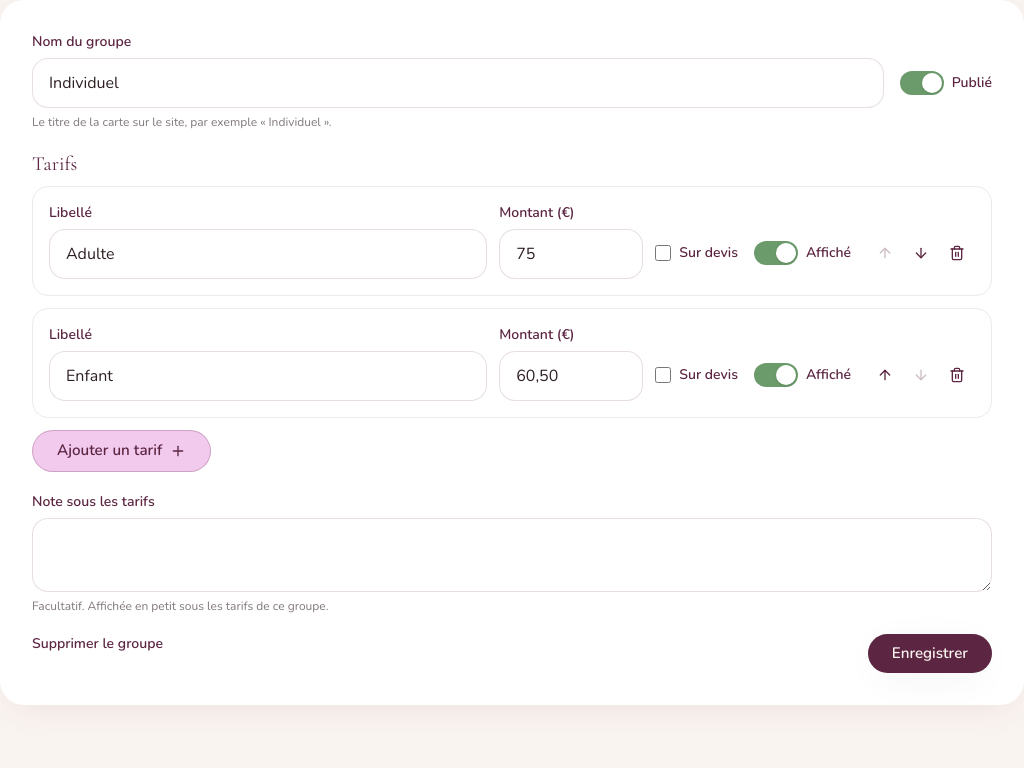
Test: PricingGroupForm › confirms on its own card once the public site is refreshed
Type " (1h)" into the 1st field labelled "Libellé" at (268, 254), box [49,229,487,279]
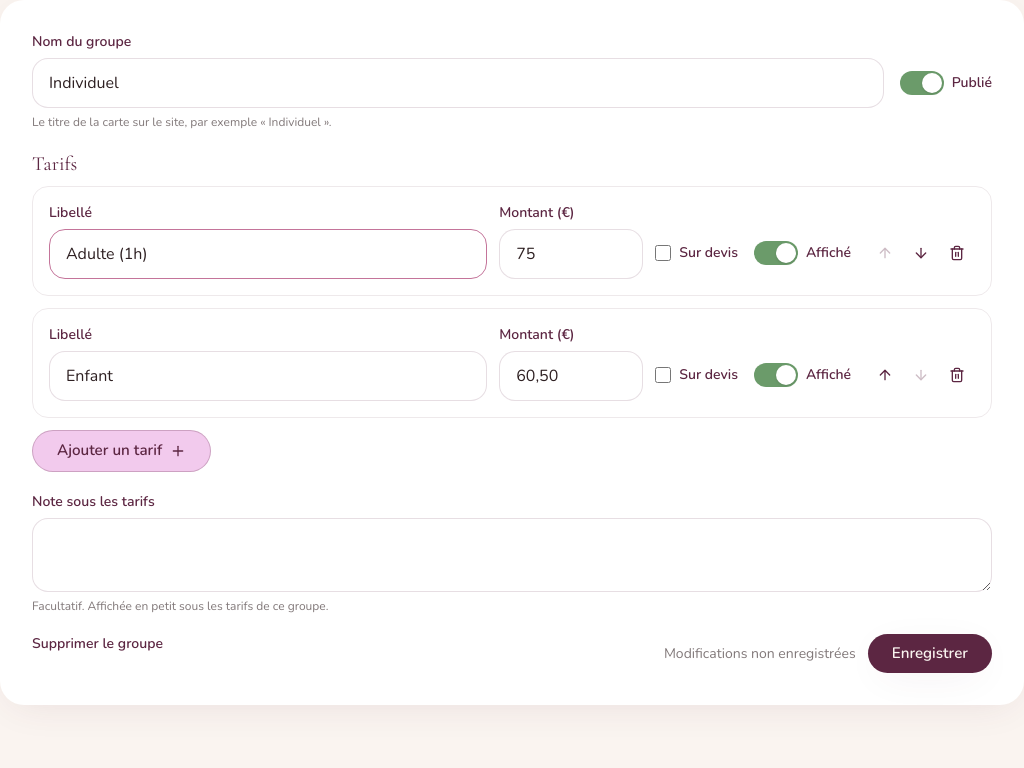
Click the button "Enregistrer" at (930, 654), box [868,634,992,673]
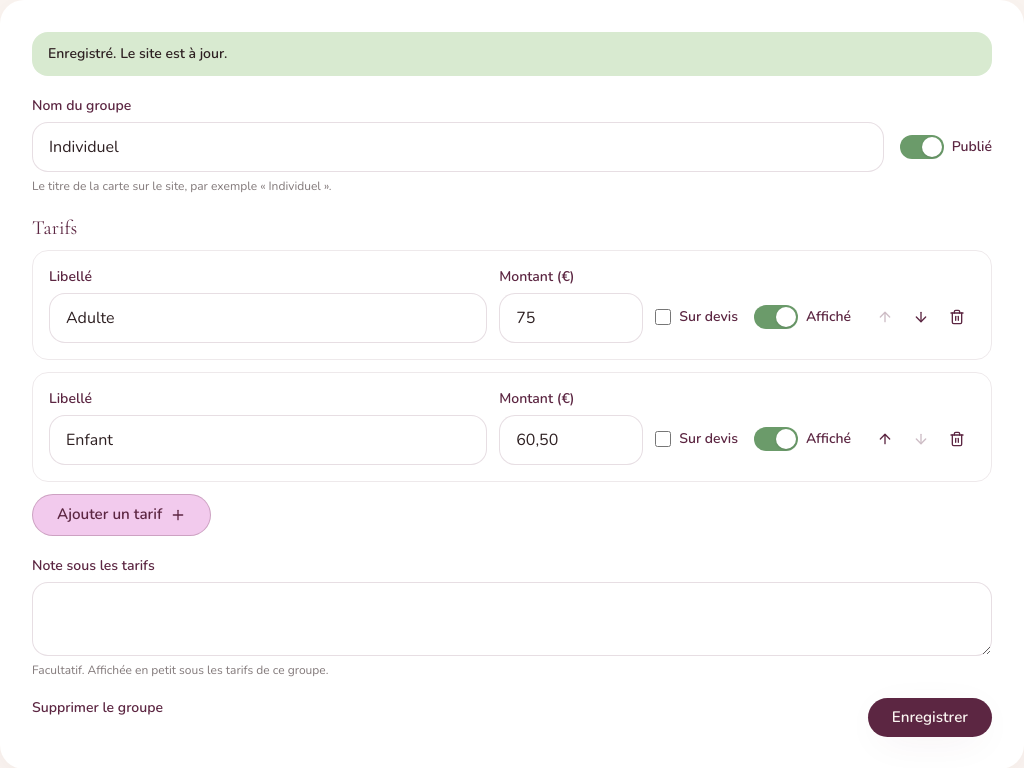
Expected: the text "Enregistré. Le site est à jour." is shown, [32,32,992,76]
